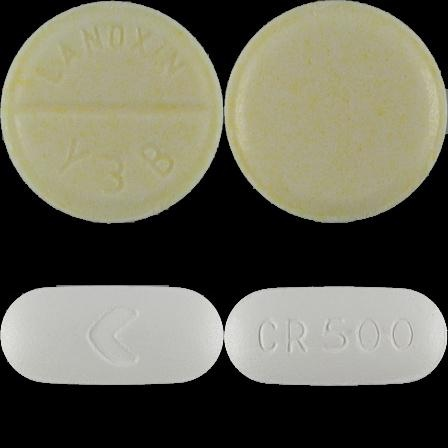70786-0514: (0, 0, 224, 224)
